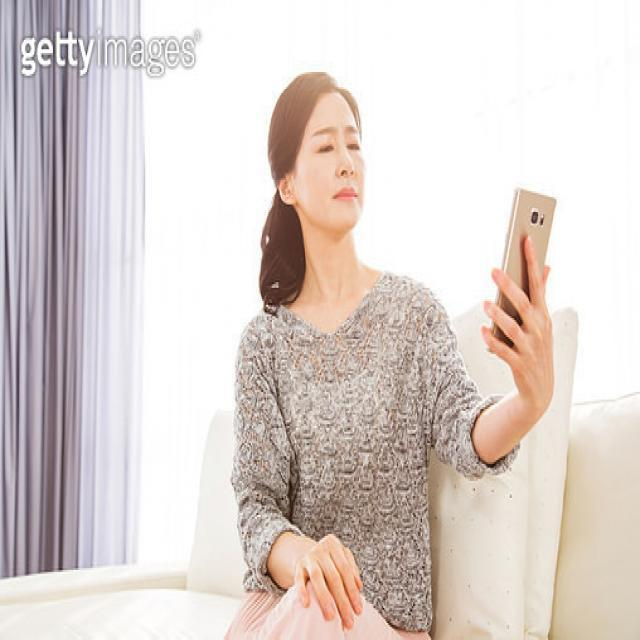Phone: (492, 182, 560, 362)
